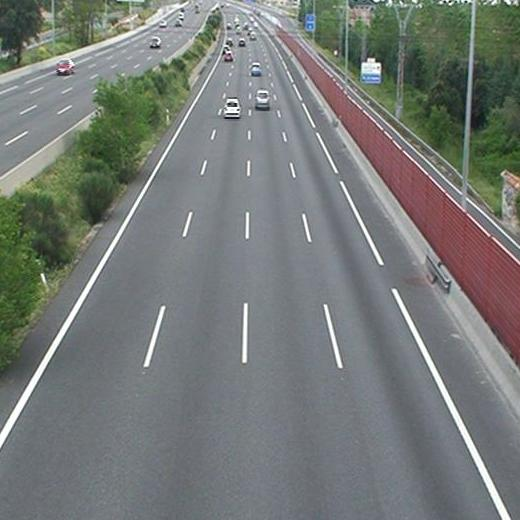car: (224, 98, 240, 118), (256, 90, 270, 108), (251, 63, 261, 75), (223, 53, 232, 62), (237, 38, 245, 46)
